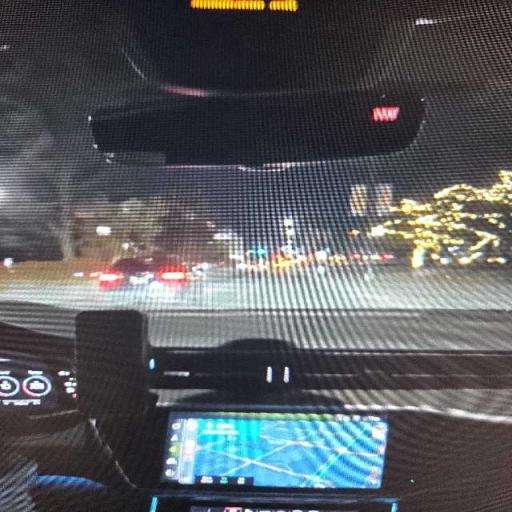car: (0, 0, 511, 511), (98, 257, 188, 290)
lane: (0, 268, 511, 349)
